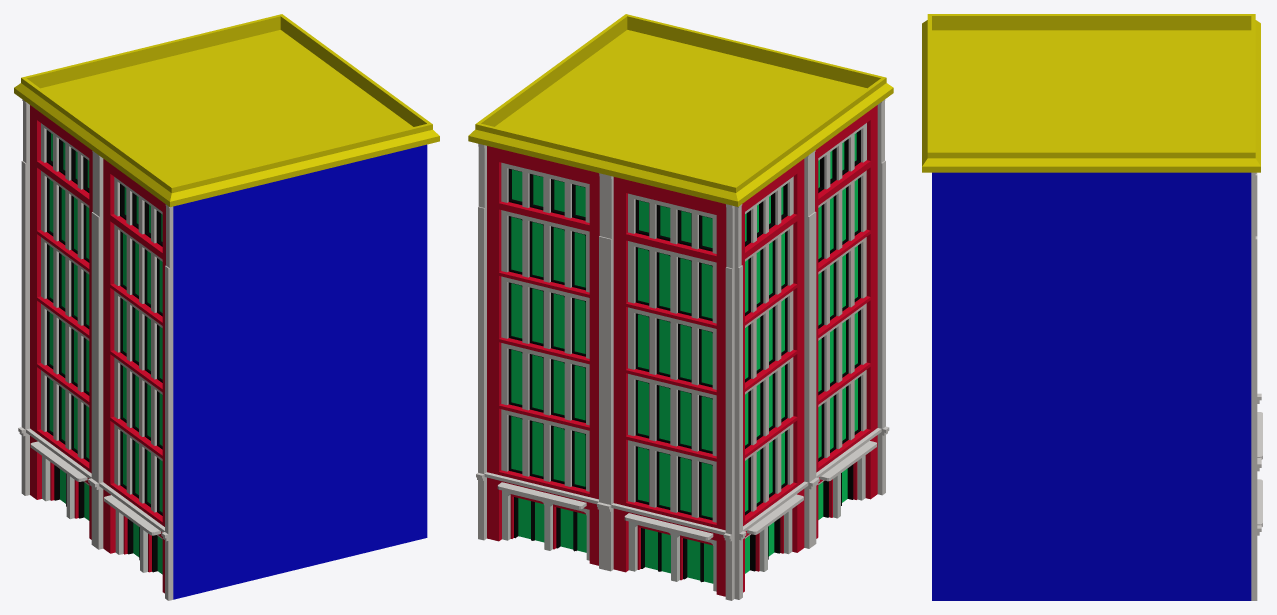
Rendered from BigBuilding.fbx.
3 views of the same model, side by side, from view 1: azimuth 30°, elevation 25°; view 2: azimuth 150°, elevation 25°; view 3: azimuth 270°, elevation 25° (orthographic). The views are drawn at different scales.
Visible parts, largest first — view 1: BigBuilding; view 2: BigBuilding; view 3: BigBuilding.
Boxes of the visible parts, x1=… form: BigBuilding: x1=14, y1=14, x2=439, y2=600; BigBuilding: x1=468, y1=14, x2=893, y2=600; BigBuilding: x1=922, y1=14, x2=1262, y2=600.
Size of the model in its own units: 1708 by 2491 by 1708.
